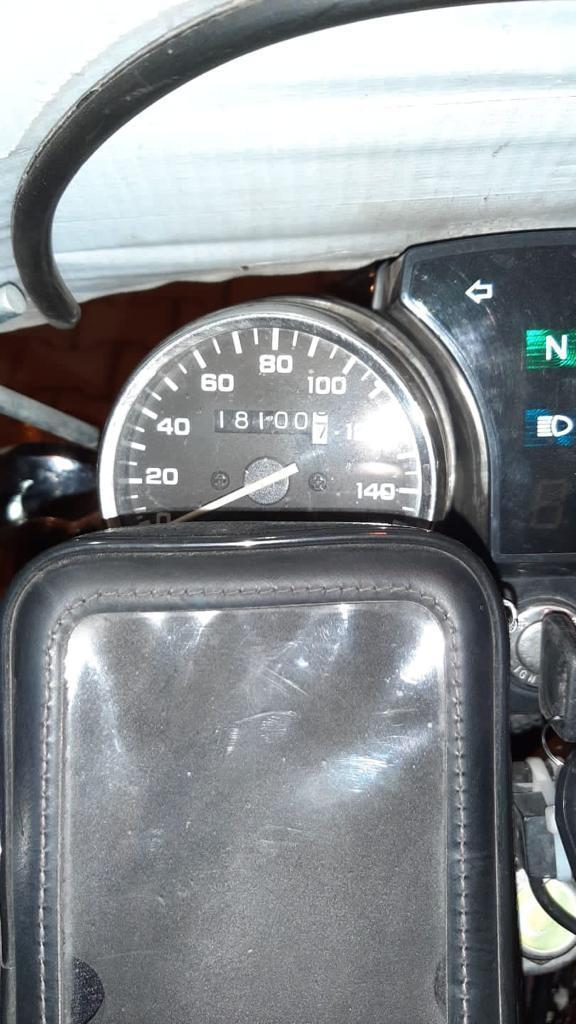0: (271, 409, 289, 430), (292, 410, 309, 431)
1: (254, 409, 267, 431), (215, 409, 226, 430)
7: (313, 419, 328, 440)
8: (232, 409, 250, 430)
odometer: (210, 407, 331, 447)
